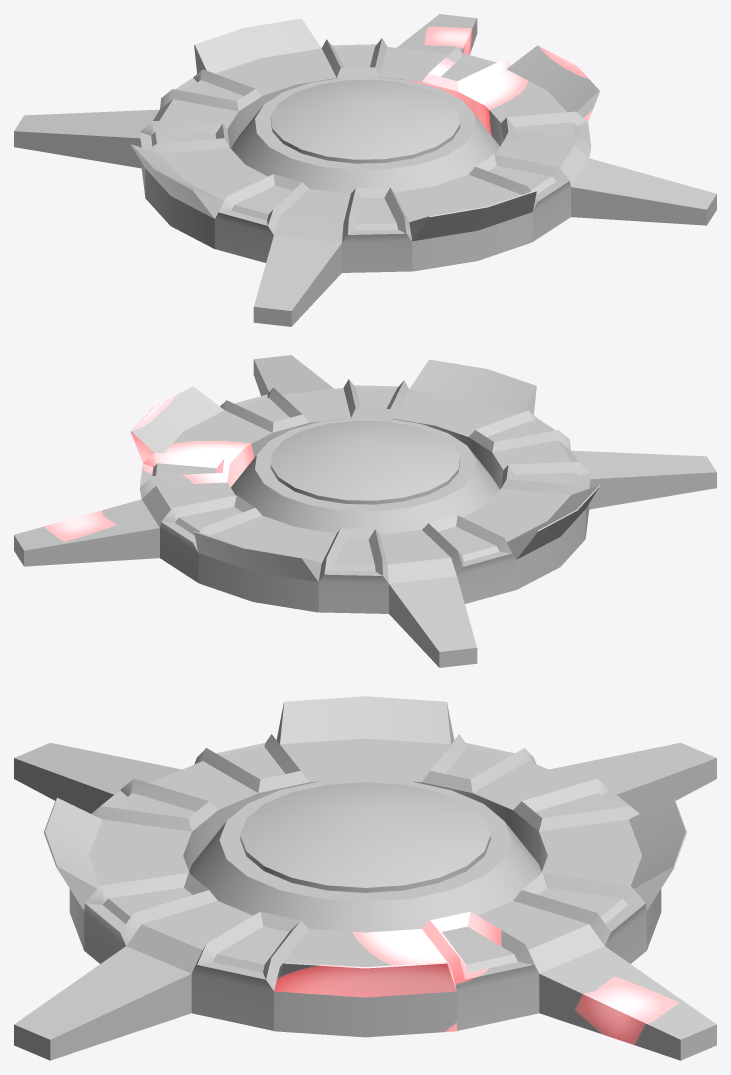
The model's file is SciFi_Mine.fbx.
The picture shows the model from 3 angles, top to bottom: view 1: azimuth 30°, elevation 25°; view 2: azimuth 150°, elevation 25°; view 3: azimuth 270°, elevation 25°; orthographic projection. The views are drawn at different scales.
Visible parts, largest first — view 1: SciFi_Mine; view 2: SciFi_Mine; view 3: SciFi_Mine.
Boxes of the visible parts, x1,y1,x2,y2 form: SciFi_Mine: (14, 14, 716, 326); SciFi_Mine: (14, 355, 716, 667); SciFi_Mine: (14, 696, 716, 1060).
Size of the model in its own units: 784 by 126 by 784.
